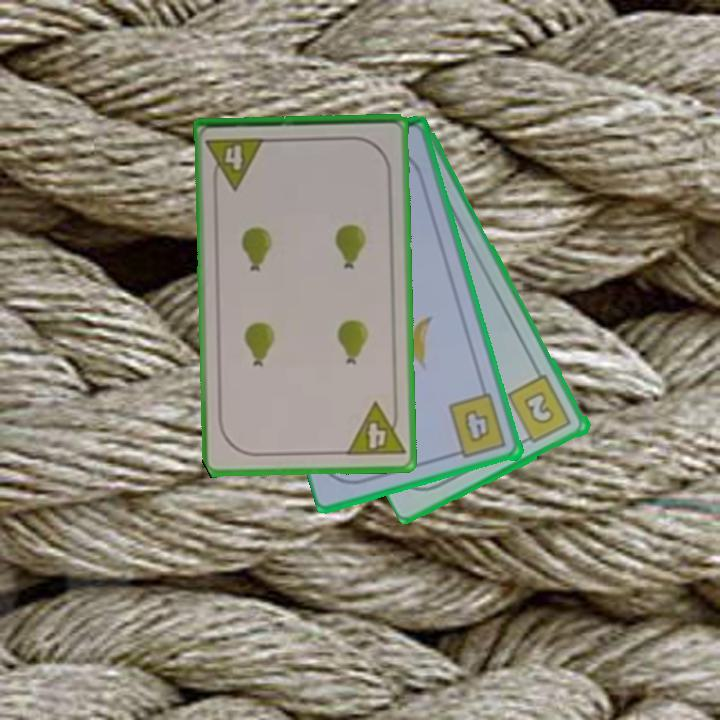2b: (504, 371, 575, 447)
4b: (445, 391, 510, 462)
4p: (343, 399, 408, 460), (203, 134, 268, 192)
